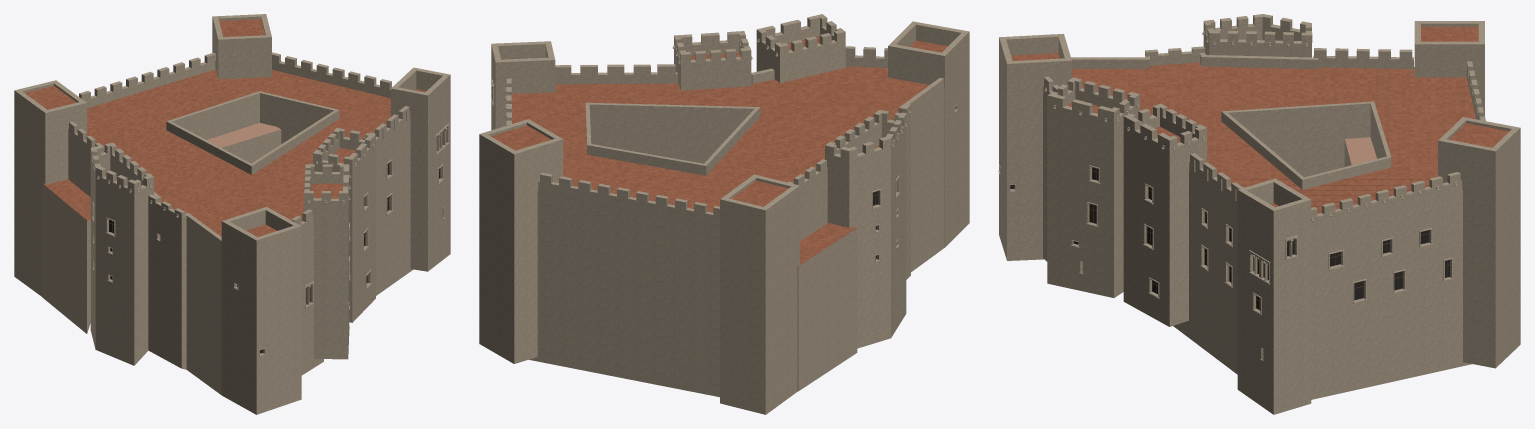
The model's file is castillo_cerca.glb.
3 views of the same model, side by side, from view 1: azimuth 30°, elevation 25°; view 2: azimuth 150°, elevation 25°; view 3: azimuth 270°, elevation 25° (orthographic). The views are drawn at different scales.
Visible parts, largest first — view 1: CAS_cuerpo, BALDOSAS_CAS_cuerpo_azotea, CAS_torre_SO, CAS_torre_pentagonal, CAS_torre_E, CAS_torre_NO, CAS_torre_S1, CAS_torre_S2, CAS_cuerpo_bajo_oeste, CAS_patio, CAS_torre_NE, CAS_galeria (+3 smaller); view 2: CAS_cuerpo, BALDOSAS_CAS_cuerpo_azotea, CAS_torre_NO, CAS_torre_NE, CAS_torre_pentagonal, CAS_torre_SO, CAS_cuerpo_bajo_oeste, CAS_torre_S1, CAS_patio, CAS_torre_S2, CAS_torre_E, BALDOSAS_CAS_cuerpo_bajo_oeste_azotea (+2 smaller); view 3: CAS_cuerpo, BALDOSAS_CAS_cuerpo_azotea, CAS_torre_E, CAS_torre_S1, CAS_torre_NE, CAS_torre_S2, CAS_torre_SO, CAS_patio, CAS_torre_pentagonal, CAS_torre_NO, CAS_cuerpo_azotea, BALDOSAS_CAS_torre_NO_azotea (+3 smaller).
Boxes of the visible parts, x1=… form: CAS_cuerpo: x1=68, y1=52, x2=413, y2=394; BALDOSAS_CAS_cuerpo_azotea: x1=87, y1=69, x2=390, y2=236; CAS_torre_SO: x1=221, y1=207, x2=301, y2=414; CAS_torre_pentagonal: x1=90, y1=142, x2=153, y2=365; CAS_torre_E: x1=391, y1=67, x2=450, y2=271; CAS_torre_NO: x1=14, y1=80, x2=87, y2=296; CAS_torre_S1: x1=304, y1=164, x2=350, y2=359; CAS_torre_S2: x1=313, y1=128, x2=375, y2=322; CAS_cuerpo_bajo_oeste: x1=42, y1=184, x2=90, y2=333; CAS_patio: x1=166, y1=91, x2=339, y2=174; CAS_torre_NE: x1=212, y1=14, x2=271, y2=79; CAS_galeria: x1=207, y1=123, x2=281, y2=163; CAS_cuerpo: x1=506, y1=46, x2=944, y2=397; BALDOSAS_CAS_cuerpo_azotea: x1=511, y1=66, x2=929, y2=212; CAS_torre_NO: x1=720, y1=174, x2=799, y2=414; CAS_torre_NE: x1=479, y1=119, x2=563, y2=363; CAS_torre_pentagonal: x1=825, y1=110, x2=906, y2=348; CAS_torre_SO: x1=888, y1=21, x2=969, y2=247; CAS_cuerpo_bajo_oeste: x1=797, y1=228, x2=857, y2=391; CAS_torre_S1: x1=756, y1=14, x2=845, y2=82; CAS_patio: x1=585, y1=102, x2=760, y2=175; CAS_torre_S2: x1=674, y1=31, x2=751, y2=90; CAS_torre_E: x1=491, y1=41, x2=555, y2=130; BALDOSAS_CAS_cuerpo_bajo_oeste_azotea: x1=798, y1=223, x2=856, y2=266; CAS_cuerpo: x1=1043, y1=46, x2=1485, y2=399; BALDOSAS_CAS_cuerpo_azotea: x1=1072, y1=62, x2=1476, y2=213; CAS_torre_E: x1=1237, y1=178, x2=1311, y2=414; CAS_torre_S1: x1=1047, y1=77, x2=1139, y2=297; CAS_torre_NE: x1=1438, y1=117, x2=1520, y2=368; CAS_torre_S2: x1=1123, y1=103, x2=1206, y2=326; CAS_torre_SO: x1=999, y1=34, x2=1071, y2=260; CAS_patio: x1=1221, y1=101, x2=1391, y2=189; CAS_torre_pentagonal: x1=1203, y1=14, x2=1312, y2=57; CAS_torre_NO: x1=1414, y1=21, x2=1484, y2=116; CAS_cuerpo_azotea: x1=1102, y1=63, x2=1464, y2=212; BALDOSAS_CAS_torre_NO_azotea: x1=1421, y1=26, x2=1478, y2=41.
Bounding box in the file's own units: 44.92 × 23.45 × 49.65.
Materials: 14 (12 with a texture image).
